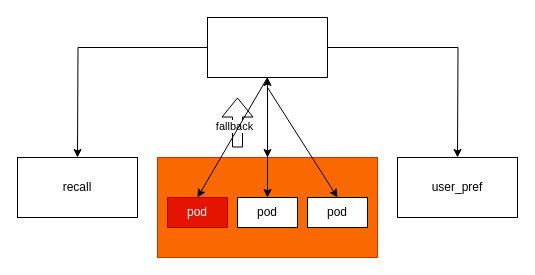
Some shapes in this 535 by 275 pixel diagram are drawn without their labels. Each missing label, with the box of its shape:
backend: (206, 16, 328, 78)
predictor: (156, 156, 378, 258)
